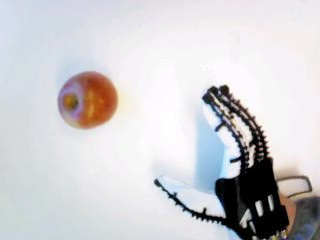apple: (55, 70, 119, 129)
hand: (152, 84, 293, 240)
